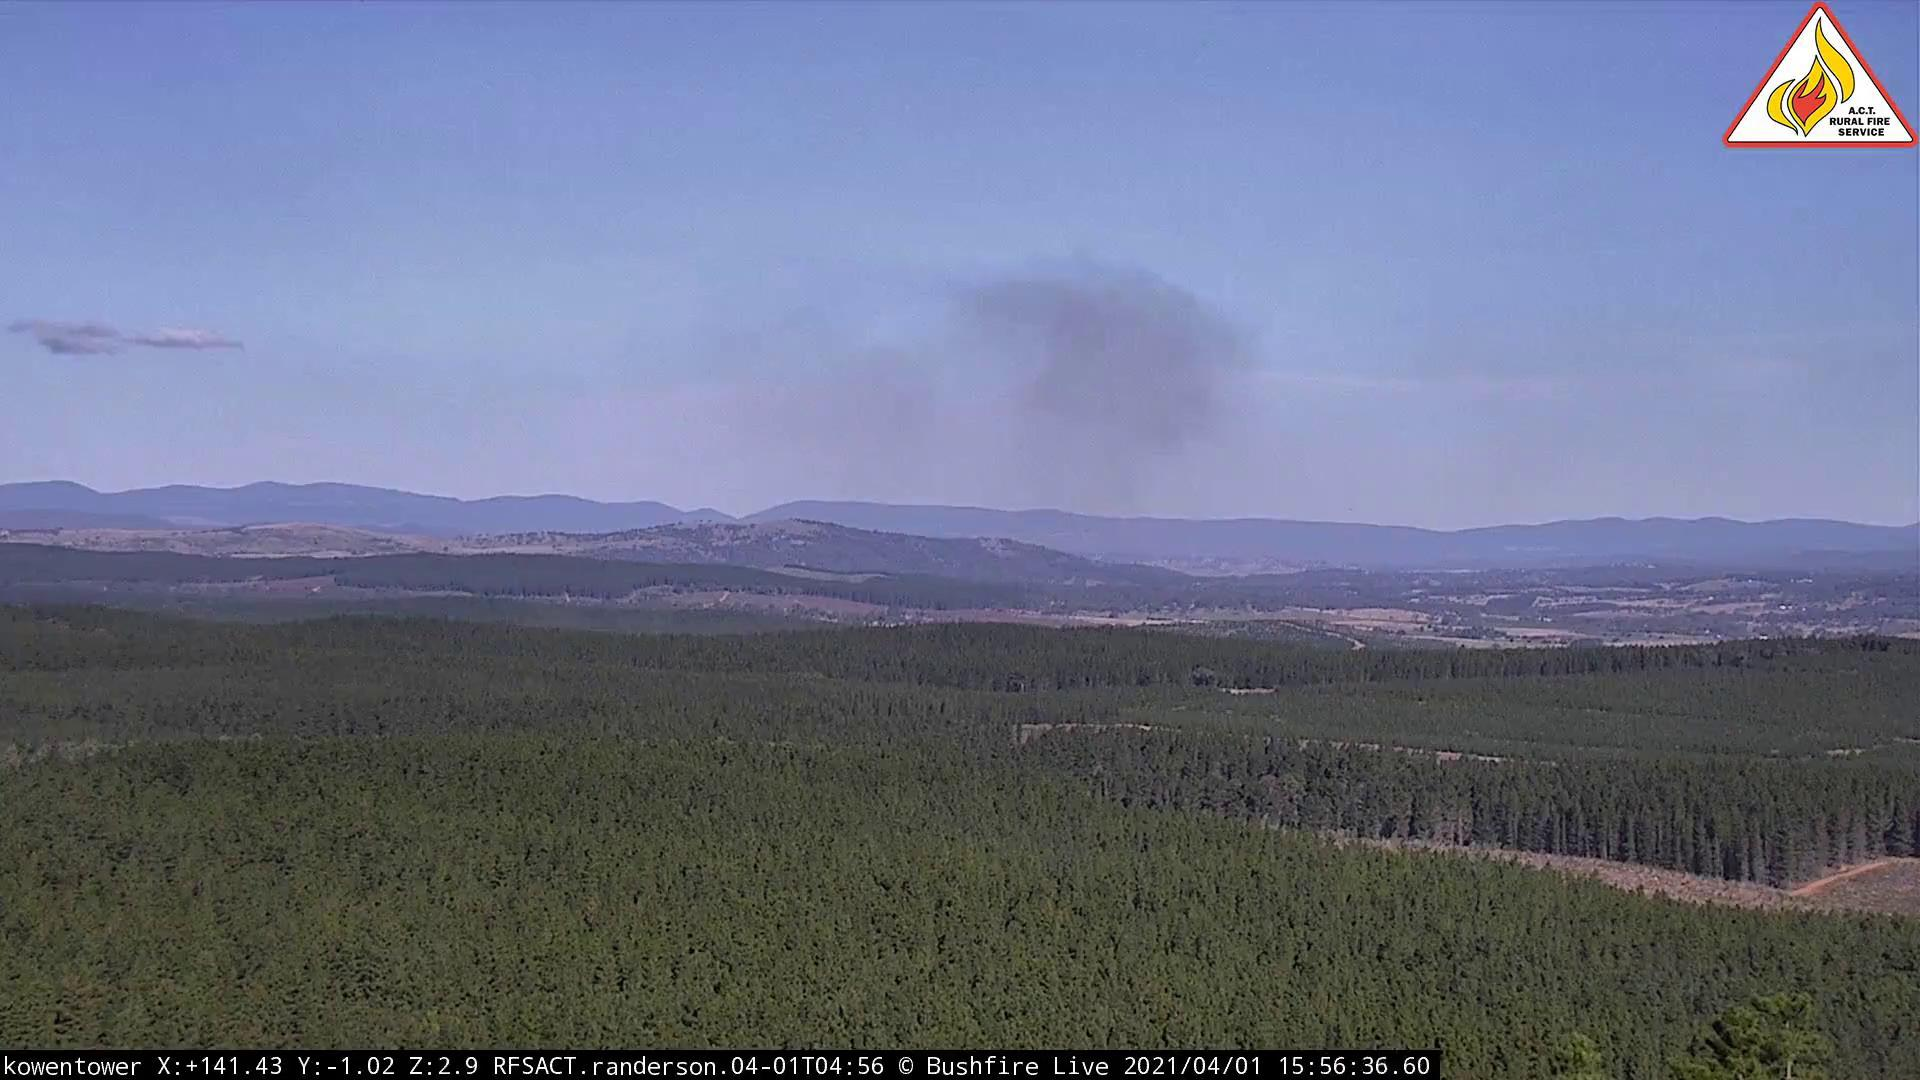Smoke: (745, 244, 1271, 550)
